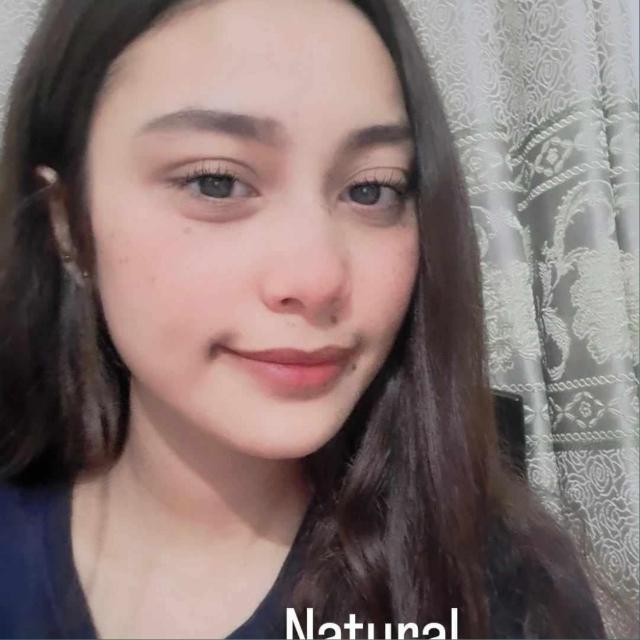natural: (35, 15, 471, 499)
